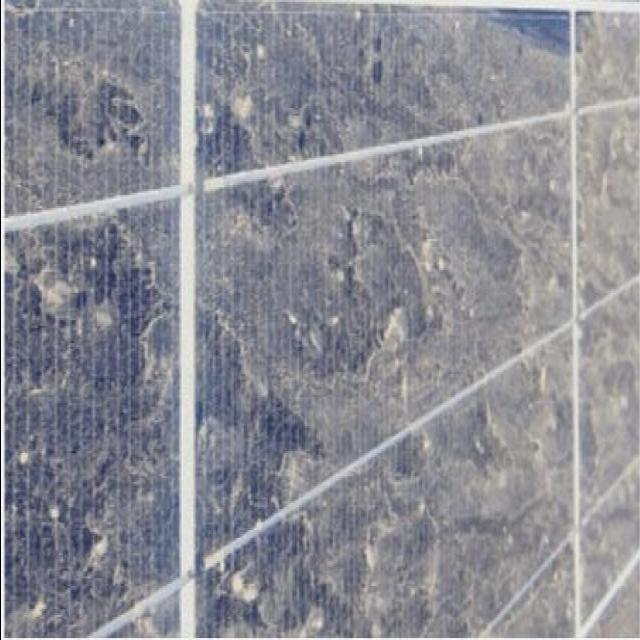soiled: (0, 6, 639, 640)
